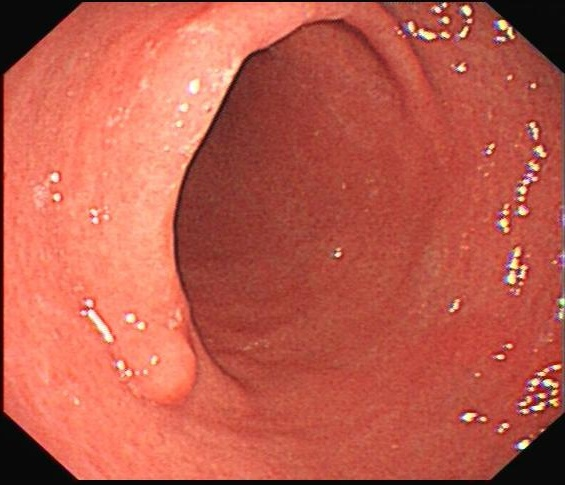Polyp: (111, 313, 212, 420)
